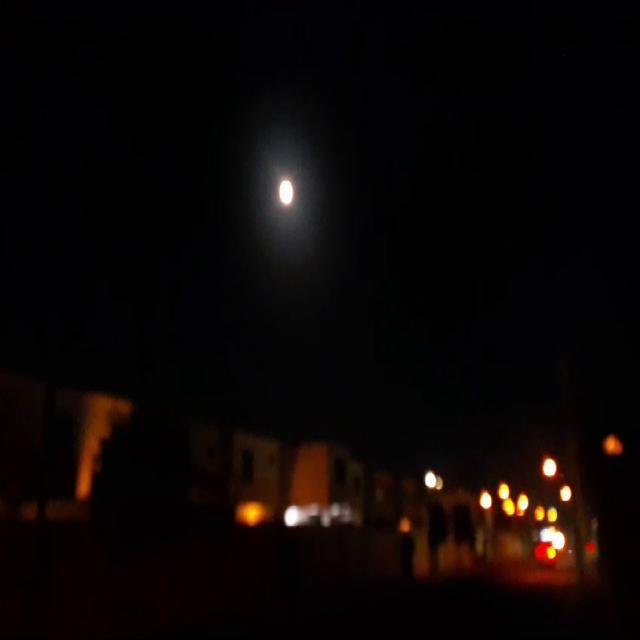moon: (273, 178, 293, 212)
